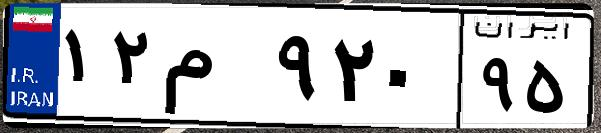0: (385, 28, 445, 110)
1: (57, 26, 110, 100)
2: (330, 28, 385, 110), (110, 28, 158, 98)
5: (525, 38, 570, 115)
9: (270, 28, 330, 110), (475, 38, 525, 113)
م: (158, 20, 270, 120)
